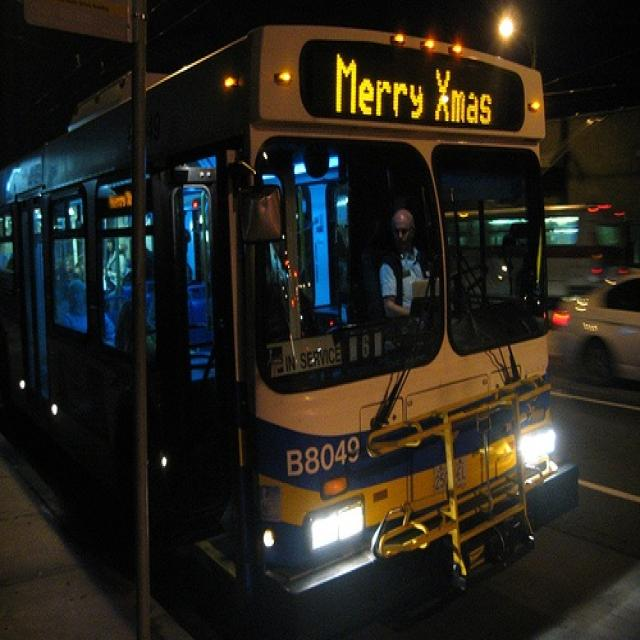Bus: (4, 7, 586, 616)
People: (377, 196, 438, 348)
car: (550, 261, 640, 408)
